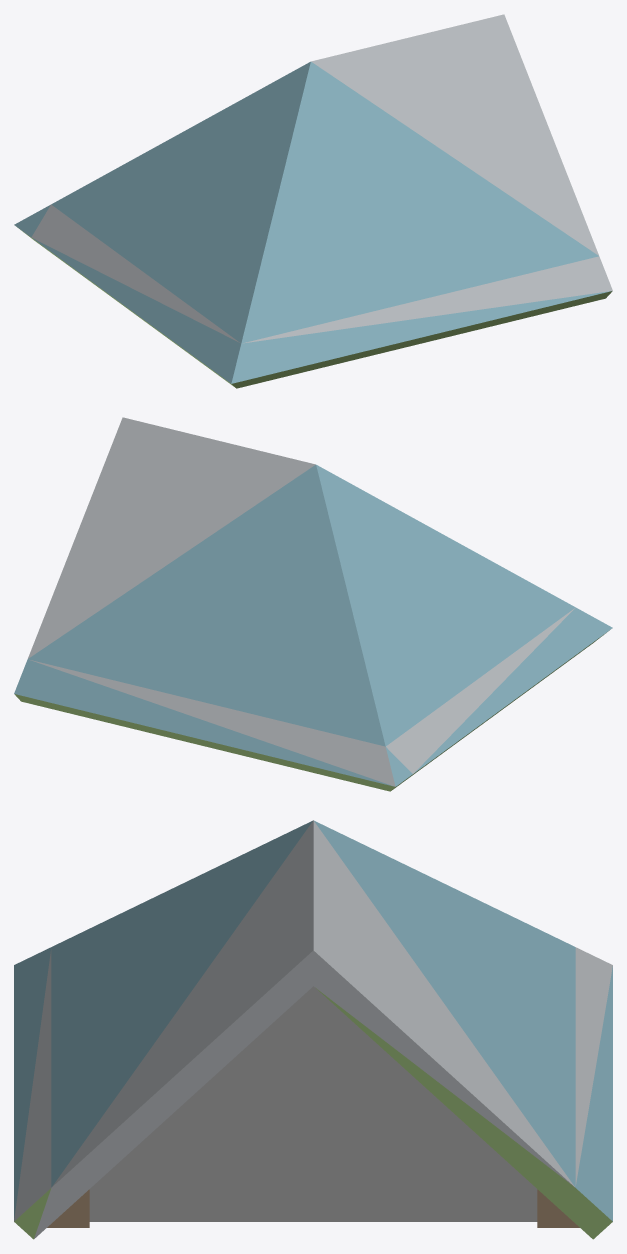
The picture shows the model from 3 angles, top to bottom: view 1: azimuth 30°, elevation 25°; view 2: azimuth 150°, elevation 25°; view 3: azimuth 270°, elevation 25°; orthographic projection. The views are drawn at different scales.
Parts seen in each view (by area): view 1: model; view 2: model; view 3: model.
Boxes of the visible parts, left/top/right/bottom form: model: left=14, top=14, right=612, bottom=388; model: left=14, top=417, right=612, bottom=791; model: left=14, top=820, right=612, bottom=1239.
Size of the model in its own units: 2.17 by 1.14 by 2.14.
